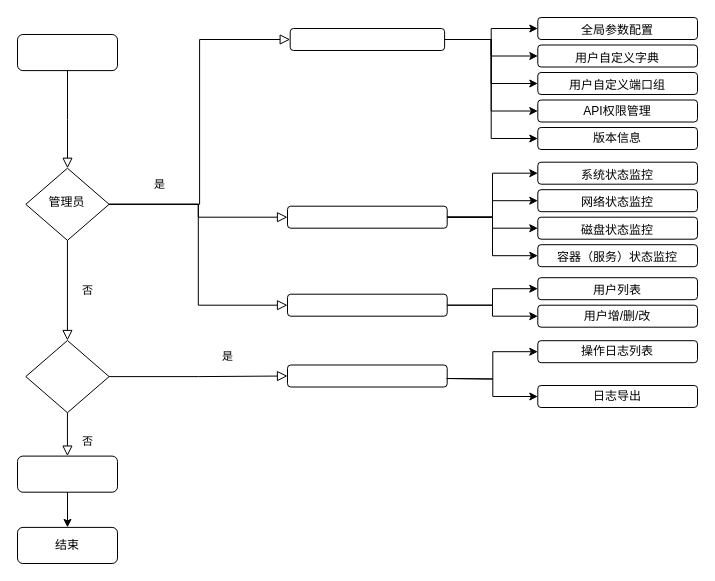
Some shapes in this 715 by 581 pixel diagram are drawn without their labels. Each missing label, with the centre of its shape:
"其它子模块" belongs at point 67,473.
"审计用户" belongs at point 67,376.
"开始" belongs at point 67,52.
"日志管理" belongs at point 366,375.
"用户管理" belongs at point 366,304.
"系统监控" belongs at point 366,216.
"系统配置" belongs at point 367,39.
